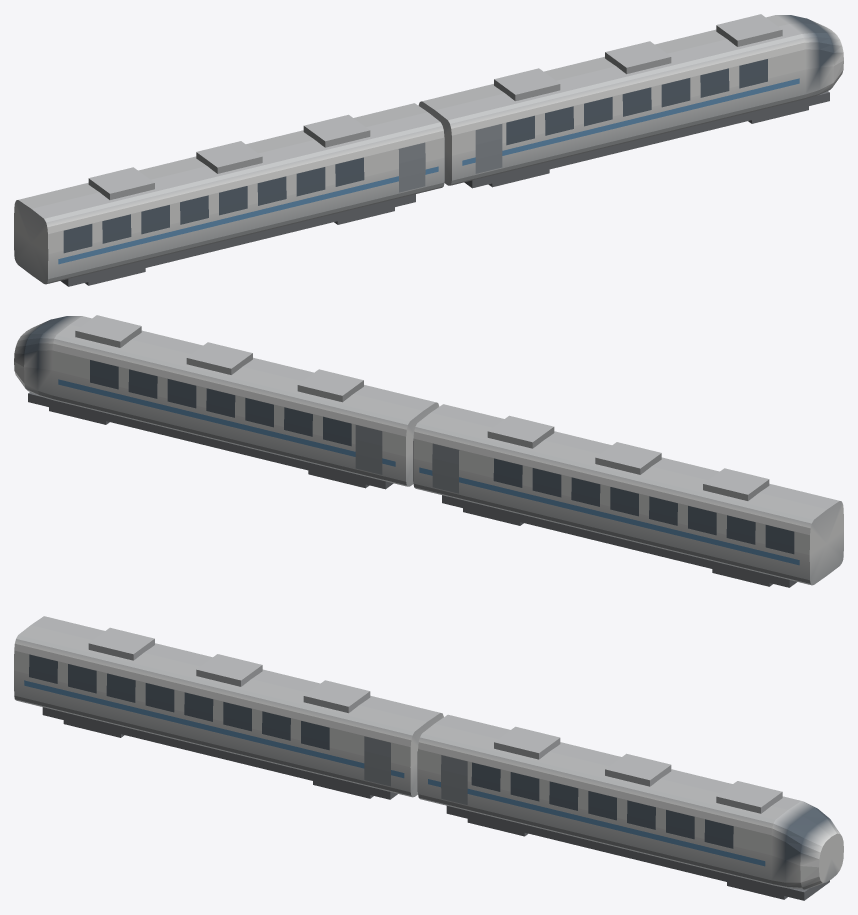
Rendered from 05_TRA_classic_3x2-02.glb.
3 views of the same model, one above another, from view 1: azimuth 30°, elevation 25°; view 2: azimuth 150°, elevation 25°; view 3: azimuth 330°, elevation 25° (orthographic).
Size of the model in its own units: 39.16 by 3.98 by 2.94.
